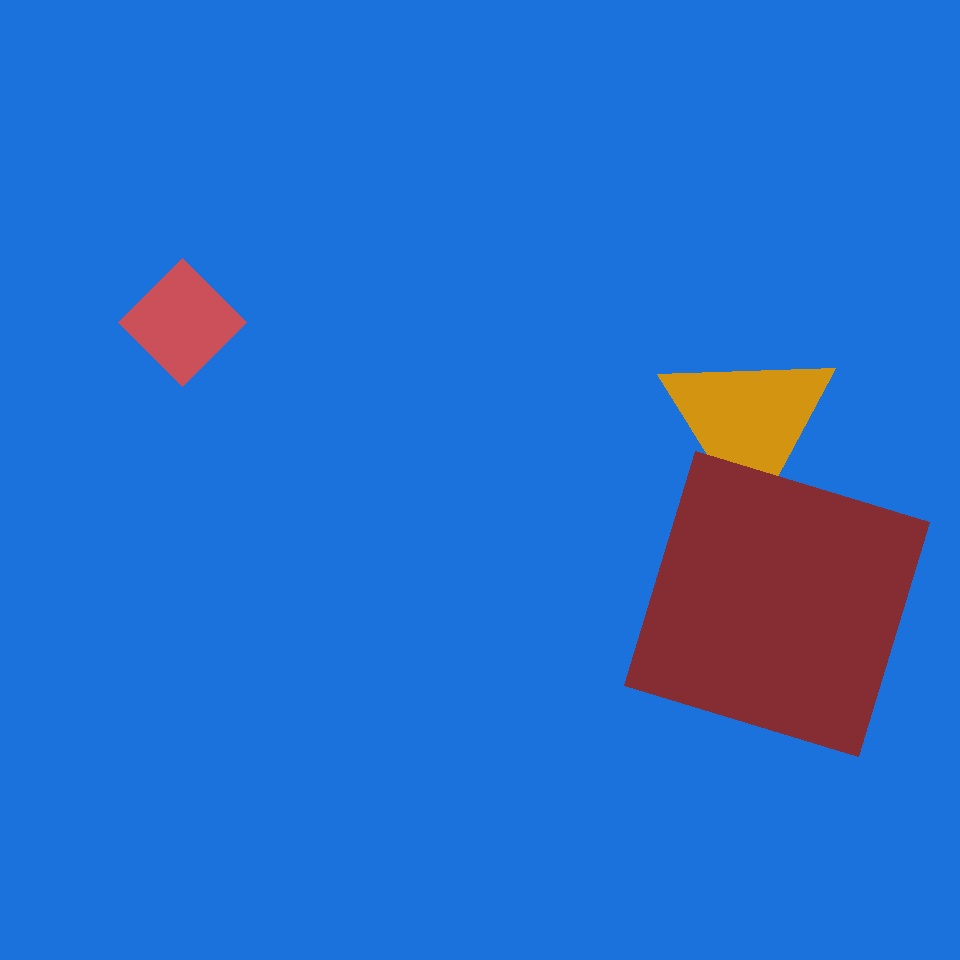circle: (432, 697, 639, 889), (659, 344, 837, 501)
square: (624, 452, 929, 756), (118, 258, 246, 386)
triangle: (619, 681, 840, 901), (779, 784, 888, 894)
